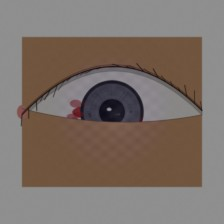hemorrhage_spot: (60, 76, 151, 149)
